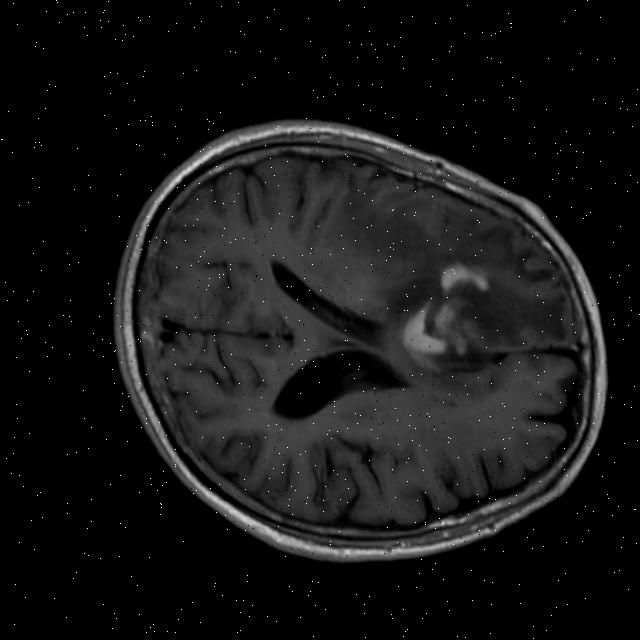Glioma: (395, 295, 450, 359), (437, 257, 490, 295)
